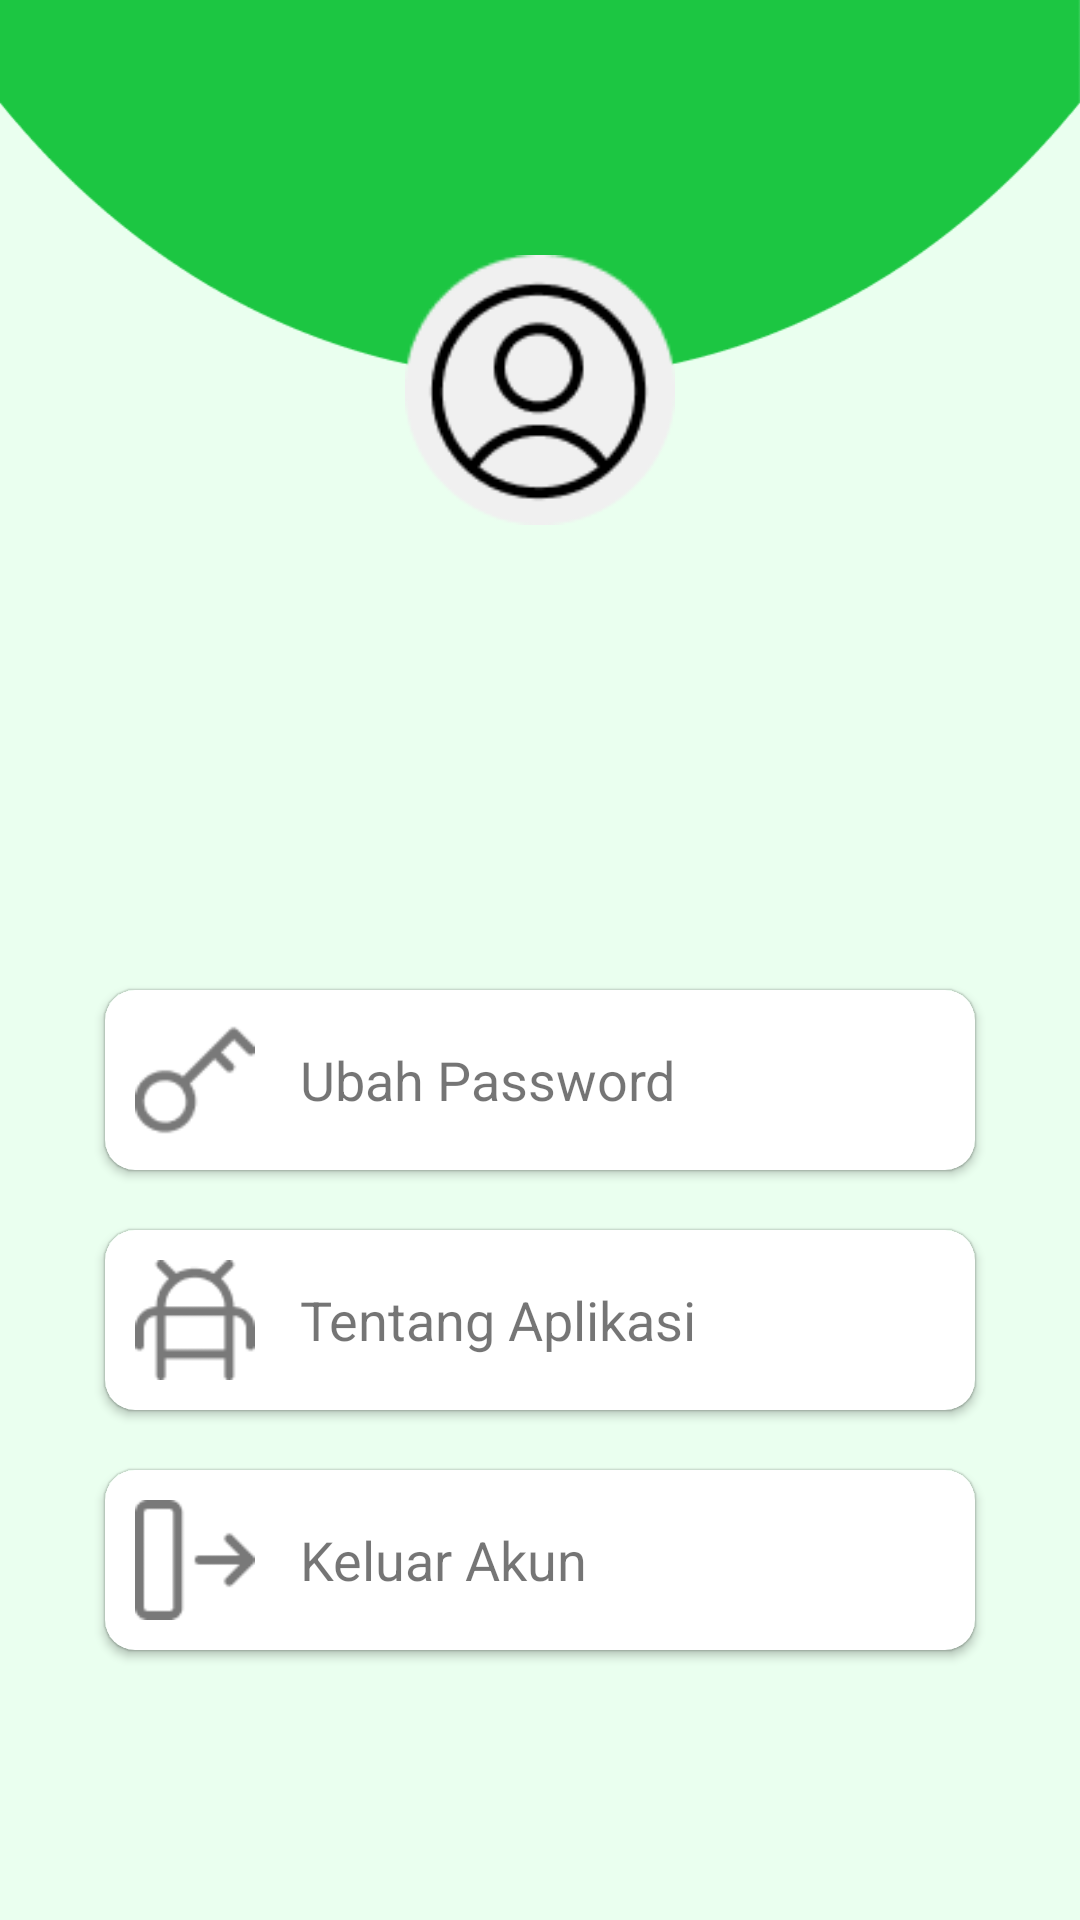

Point at icon controls on the screen. Image size 1080x1920, points as point (x, y).
foto profile: point (540, 390)
keluarnew: point (195, 1560)
key: point (195, 1080)
